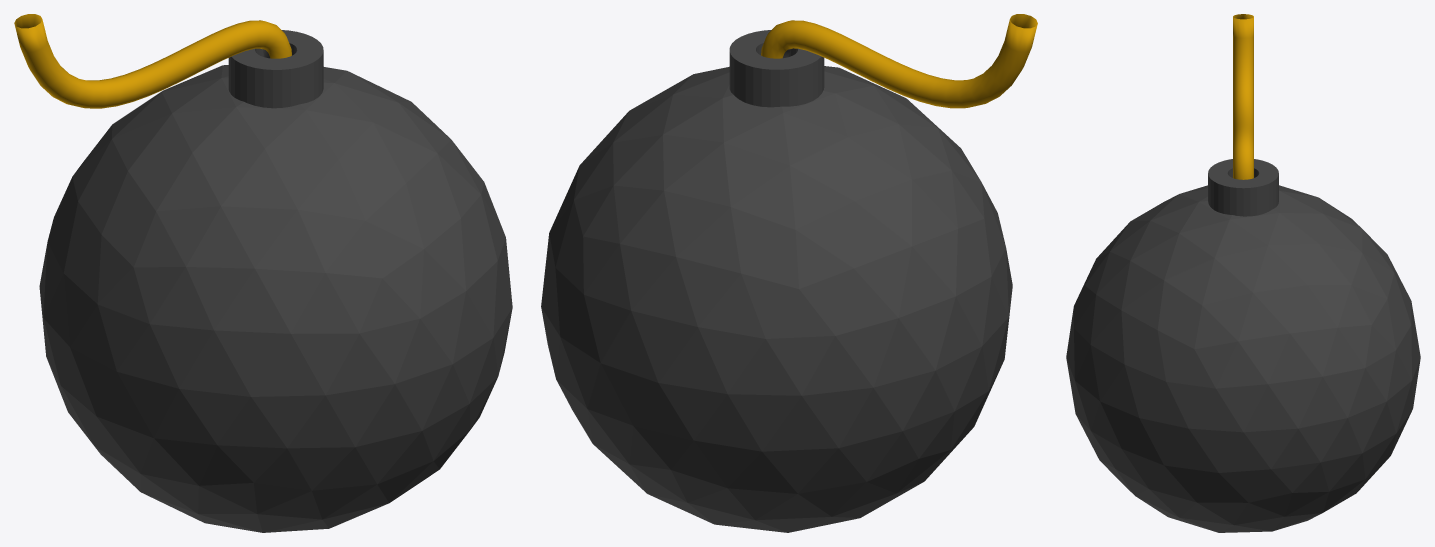
The model's file is bombe.gltf.
3 renders of one model, left to right at view 1: azimuth 30°, elevation 25°; view 2: azimuth 150°, elevation 25°; view 3: azimuth 270°, elevation 25°, orthographic. The views are drawn at different scales.
Parts seen in each view (by area): view 1: bombe; view 2: bombe; view 3: bombe.
Part boxes in pixels (x1,y1,x2,y2): bombe: [14, 14, 512, 532]; bombe: [541, 14, 1037, 532]; bombe: [1066, 14, 1420, 532].
Bounding box in the file's own units: 0.69 × 0.7843 × 0.6102.
1 material, 1 textured.
